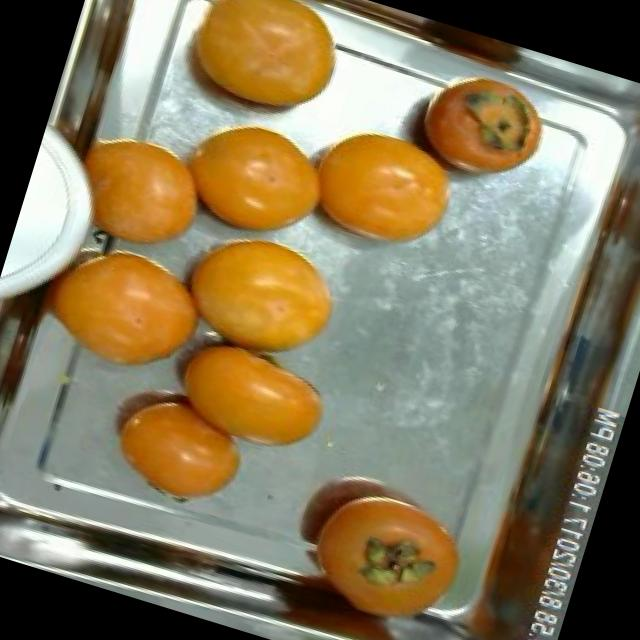Fruit: (261, 447, 497, 640), (3, 216, 230, 404), (143, 202, 365, 388), (272, 101, 479, 278), (37, 103, 236, 278), (131, 0, 366, 146), (140, 315, 347, 475), (152, 96, 346, 266), (80, 360, 270, 526), (378, 54, 566, 206)
